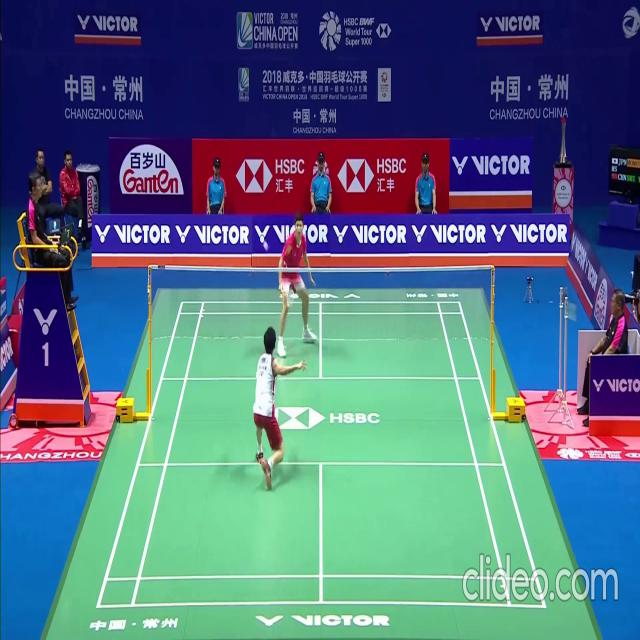Shuttlecock: (263, 241, 268, 248)
